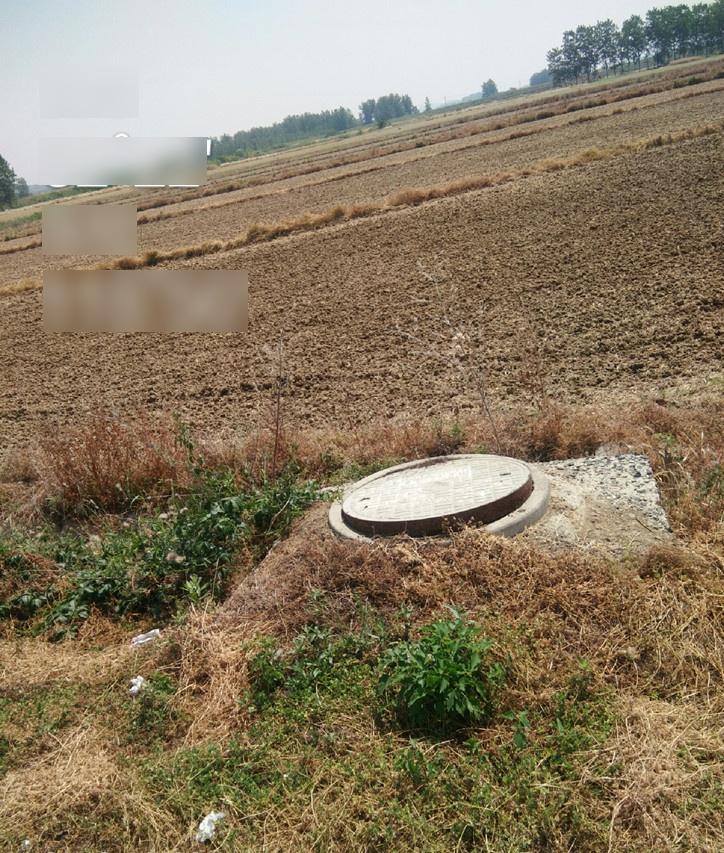uncovered: (330, 454, 548, 542)
